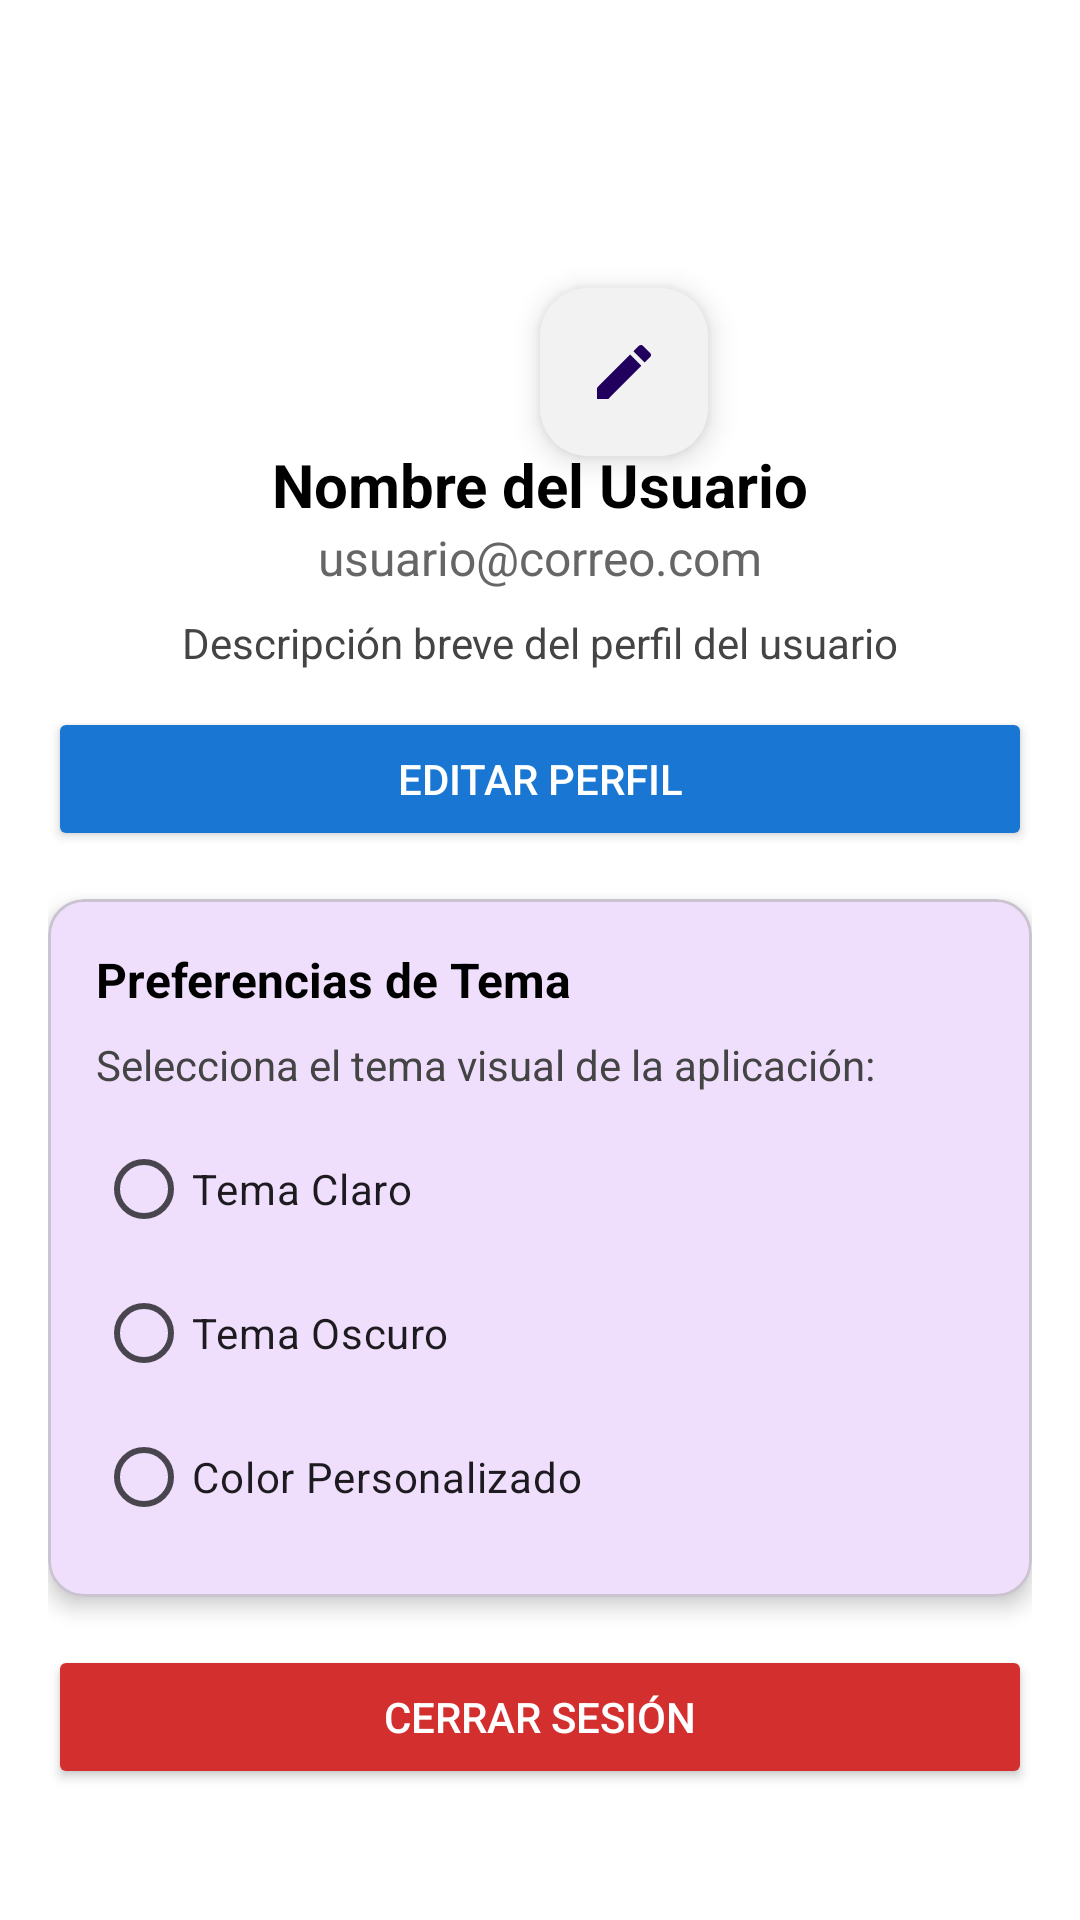

Locate icon controls on the screen. Image size 1080×1920, boxes as rect(x1, y1, x2, y2).
Editar foto: rect(597, 345, 651, 399)
